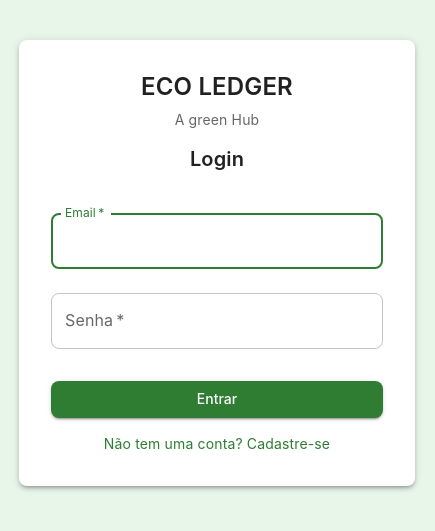
it: LoginPage › should show validation errors for empty fields
Step 1. Click the button "Entrar" → (217,399), box 51,381 -> 383,418
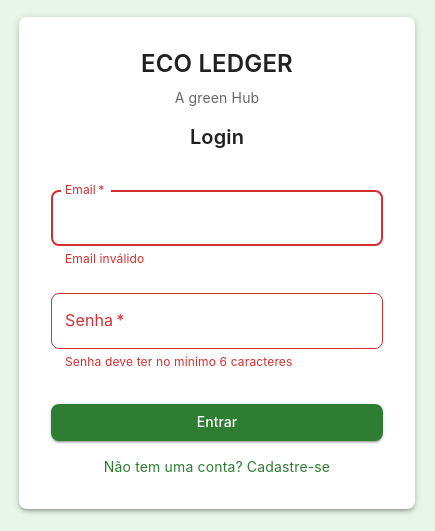
expect the text "Email inválido" is shown: met, box 65,251 -> 144,266
